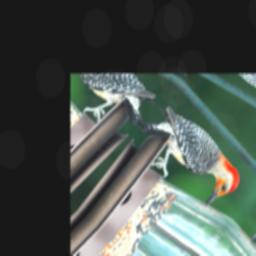Woodpecker: (124, 96, 255, 217)
